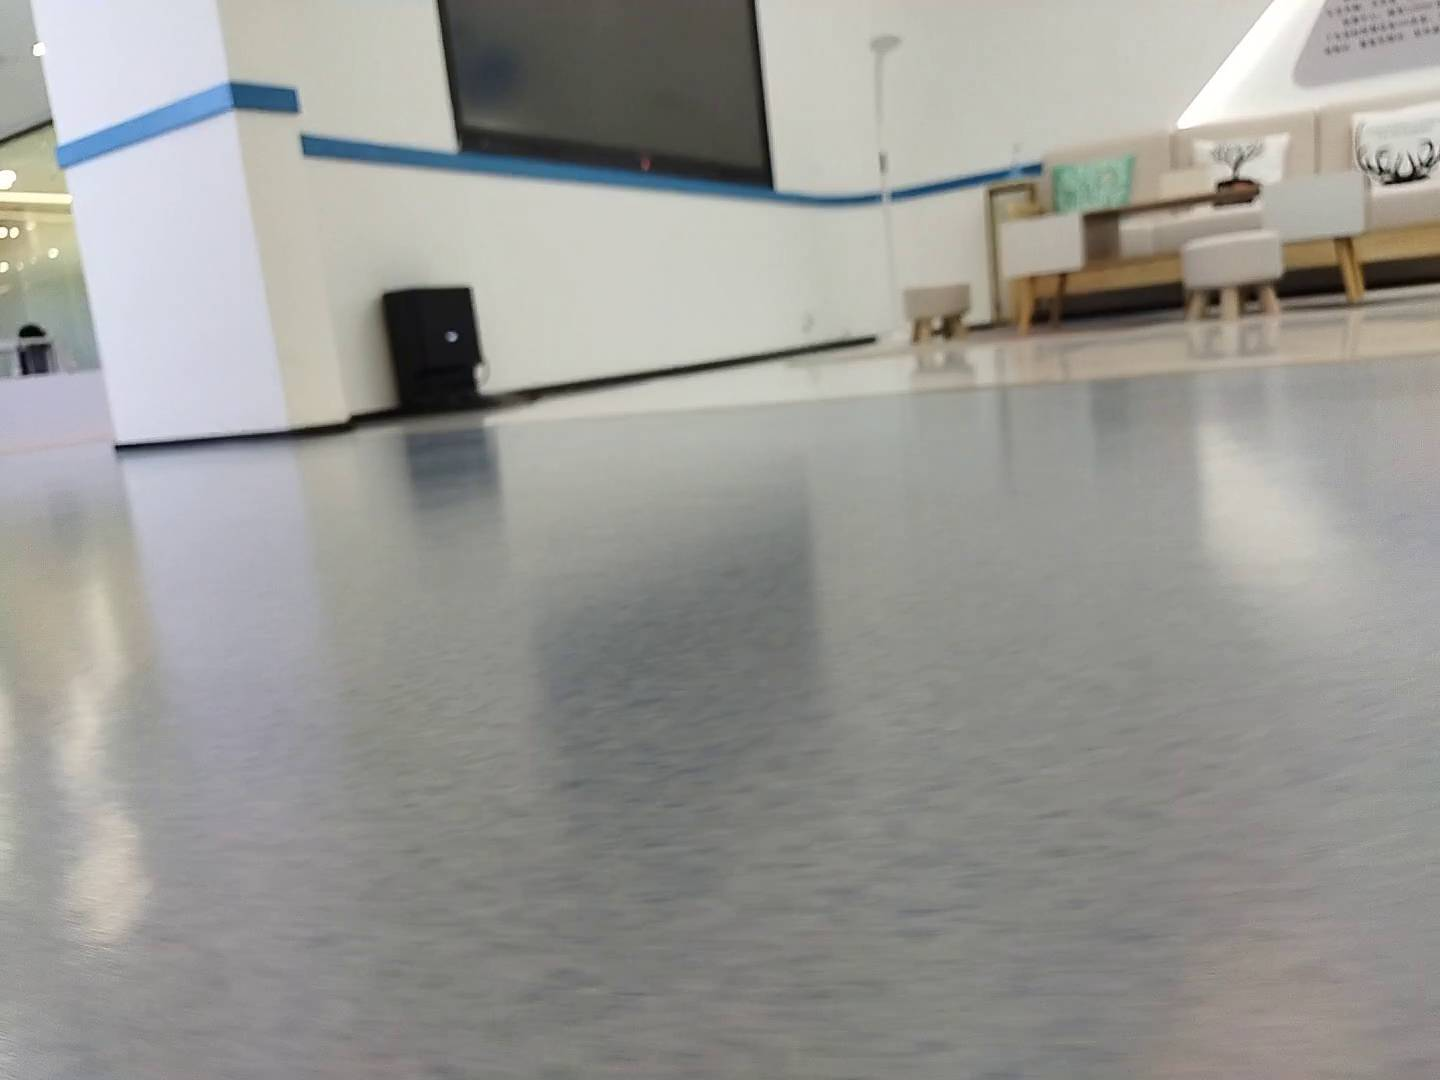dust collecting barrel: (376, 286, 506, 413)
